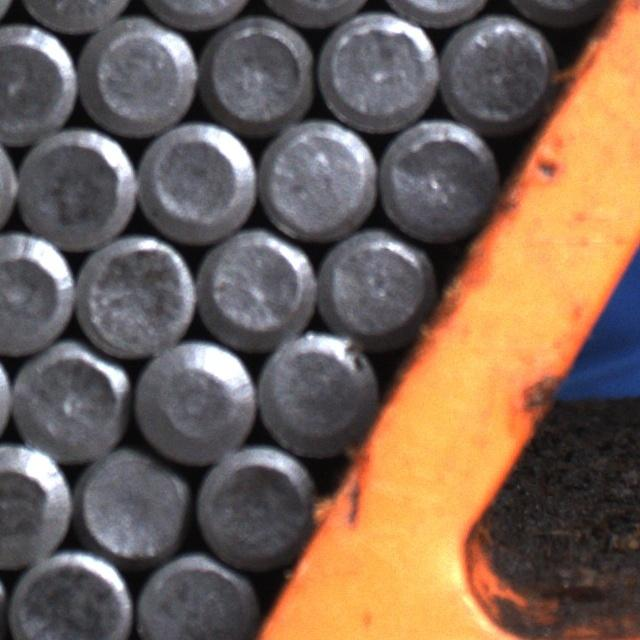tool: (128, 338, 256, 466), (257, 328, 380, 457), (7, 338, 131, 465), (192, 445, 316, 572), (377, 116, 501, 242), (15, 126, 138, 250), (315, 11, 440, 132), (75, 233, 197, 356), (258, 116, 378, 240), (136, 120, 257, 242), (80, 15, 200, 137), (73, 442, 193, 562), (199, 226, 316, 346), (436, 13, 556, 129), (198, 13, 314, 132), (317, 227, 434, 343), (7, 548, 132, 640), (132, 551, 258, 640), (0, 440, 73, 570), (0, 22, 77, 144), (0, 230, 74, 354)
